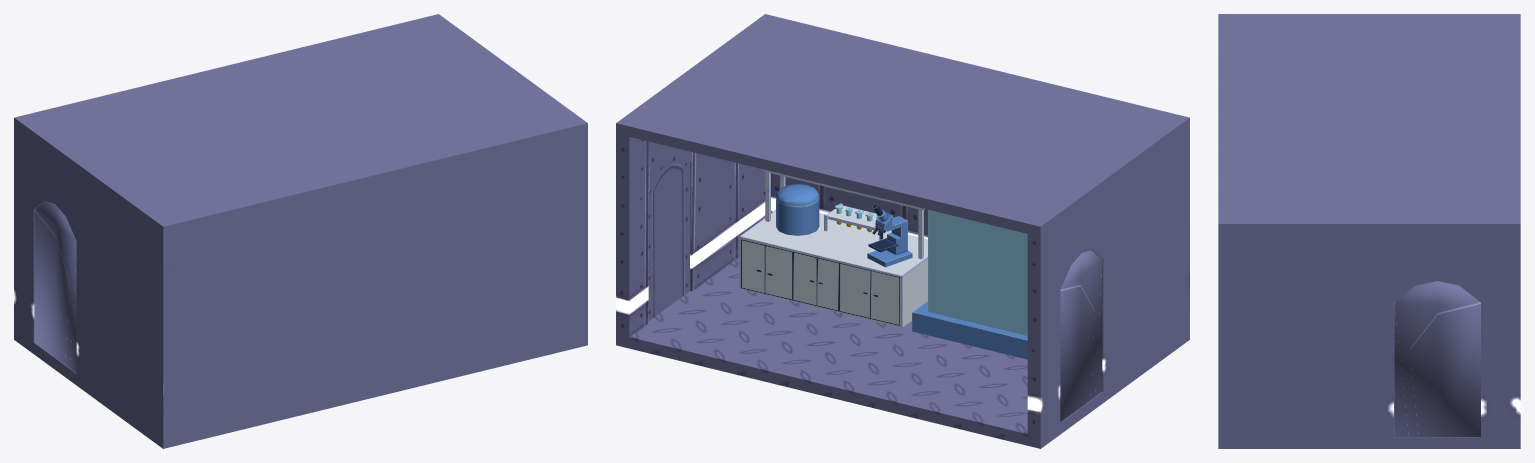
File: complex_research.fbx
3 views of the same model, side by side, from view 1: azimuth 30°, elevation 25°; view 2: azimuth 150°, elevation 25°; view 3: azimuth 270°, elevation 25° (orthographic).
Visible parts, largest first — view 1: base, base.002; view 2: base, Cube.001, Cube, base.002, base.001, Circle.001, Cube.002, Cube.003; view 3: base, base.001.
Part boxes in pixels (x1=…): base: x1=14, y1=14, x2=587, y2=448; base.002: x1=34, y1=201, x2=76, y2=372; base: x1=616, y1=14, x2=1189, y2=448; Cube.001: x1=739, y1=169, x2=927, y2=327; Cube: x1=912, y1=209, x2=1027, y2=359; base.002: x1=1060, y1=250, x2=1102, y2=421; base.001: x1=648, y1=154, x2=689, y2=320; Circle.001: x1=776, y1=184, x2=819, y2=235; Cube.002: x1=867, y1=204, x2=912, y2=267; Cube.003: x1=824, y1=203, x2=895, y2=240; base: x1=1218, y1=14, x2=1520, y2=448; base.001: x1=1394, y1=281, x2=1480, y2=436.
Size of the model in its own units: 800 by 400 by 487.
